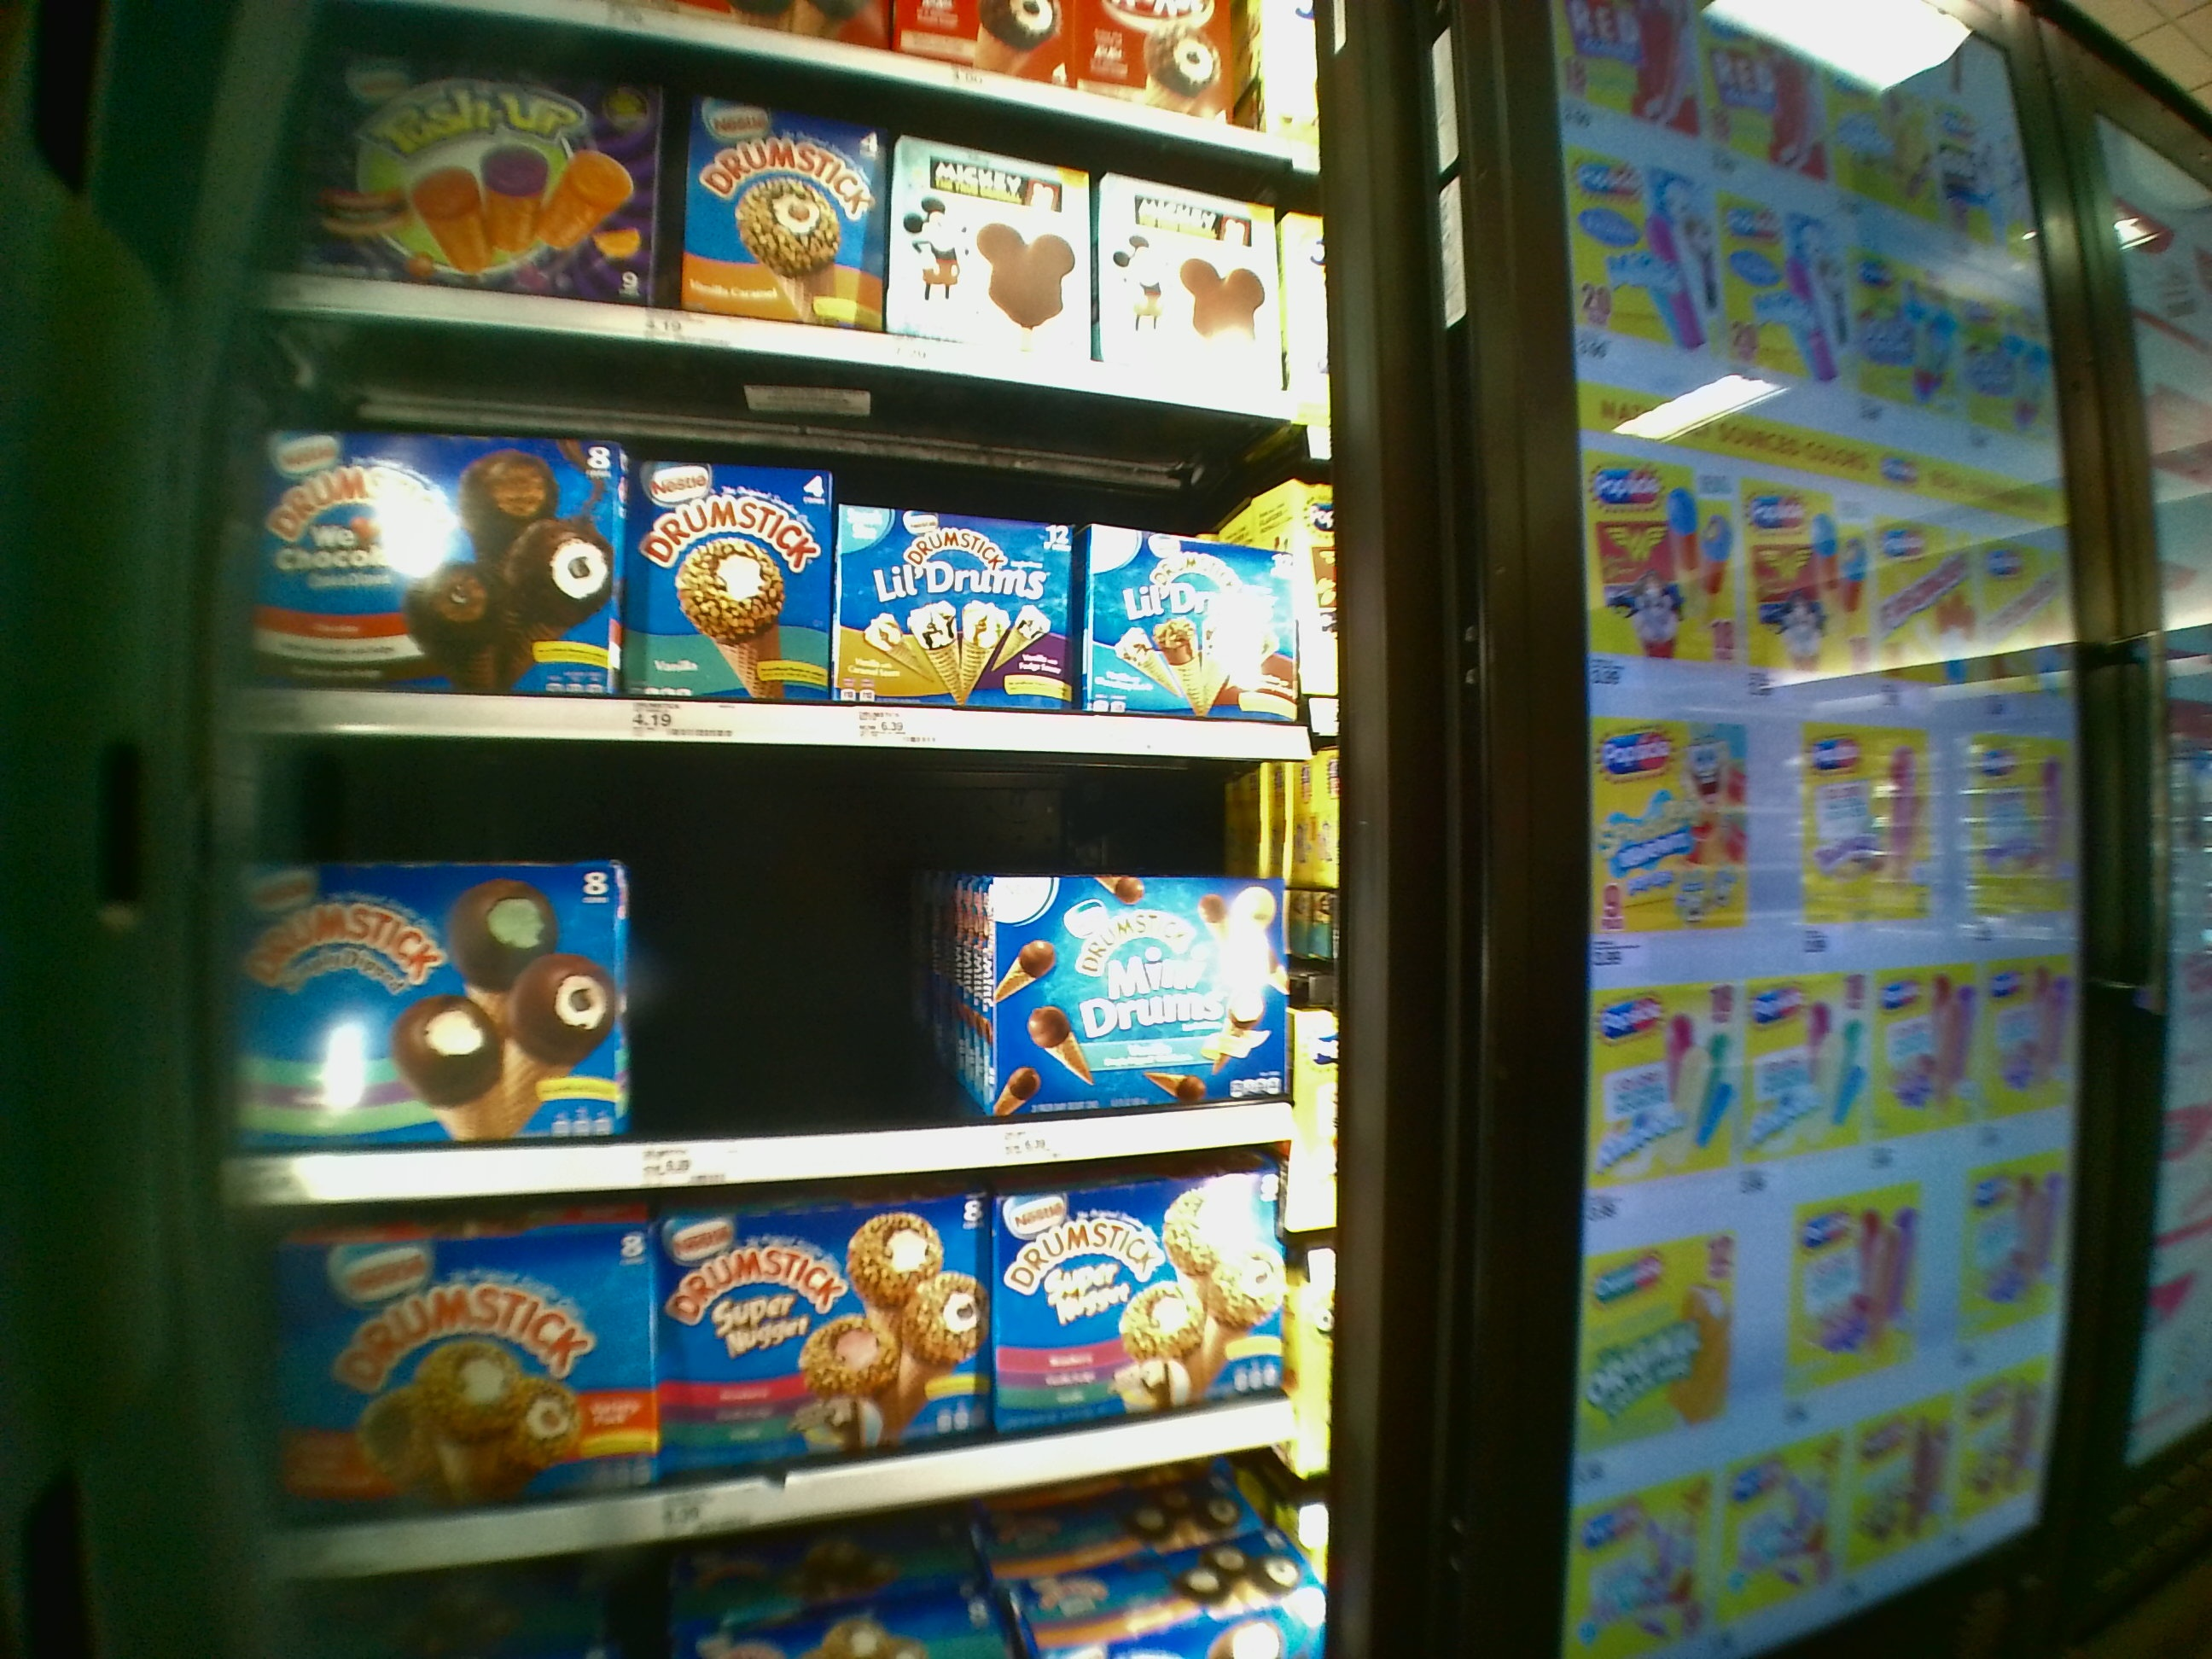shelf: (226, 748, 1331, 1188), (237, 397, 1318, 763), (253, 1169, 1332, 1535), (275, 98, 1310, 392)
